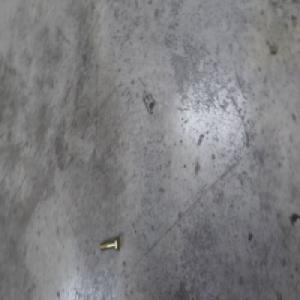Bolt: (100, 232, 122, 251)
